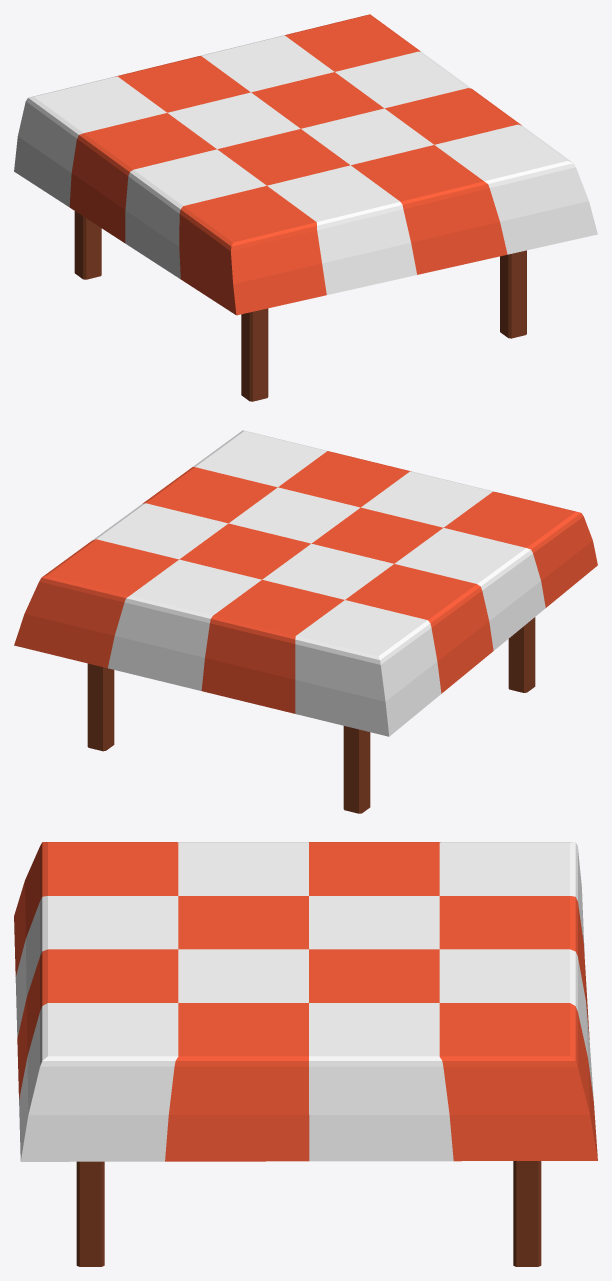
Rendered from Mesa.fbx.
The picture shows the model from 3 angles, top to bottom: view 1: azimuth 30°, elevation 25°; view 2: azimuth 150°, elevation 25°; view 3: azimuth 270°, elevation 25°; orthographic projection. The views are drawn at different scales.
Parts seen in each view (by area): view 1: Mantel, Mesa; view 2: Mantel, Mesa; view 3: Mantel, Mesa.
Boxes of the visible parts, x1,y1,x2,y2 form: Mantel: [14, 14, 597, 315]; Mesa: [74, 211, 526, 401]; Mantel: [14, 430, 597, 736]; Mesa: [87, 617, 535, 813]; Mantel: [14, 842, 597, 1161]; Mesa: [76, 1161, 541, 1266].
Bounding box in the file's own units: 187 × 83.83 × 194.
